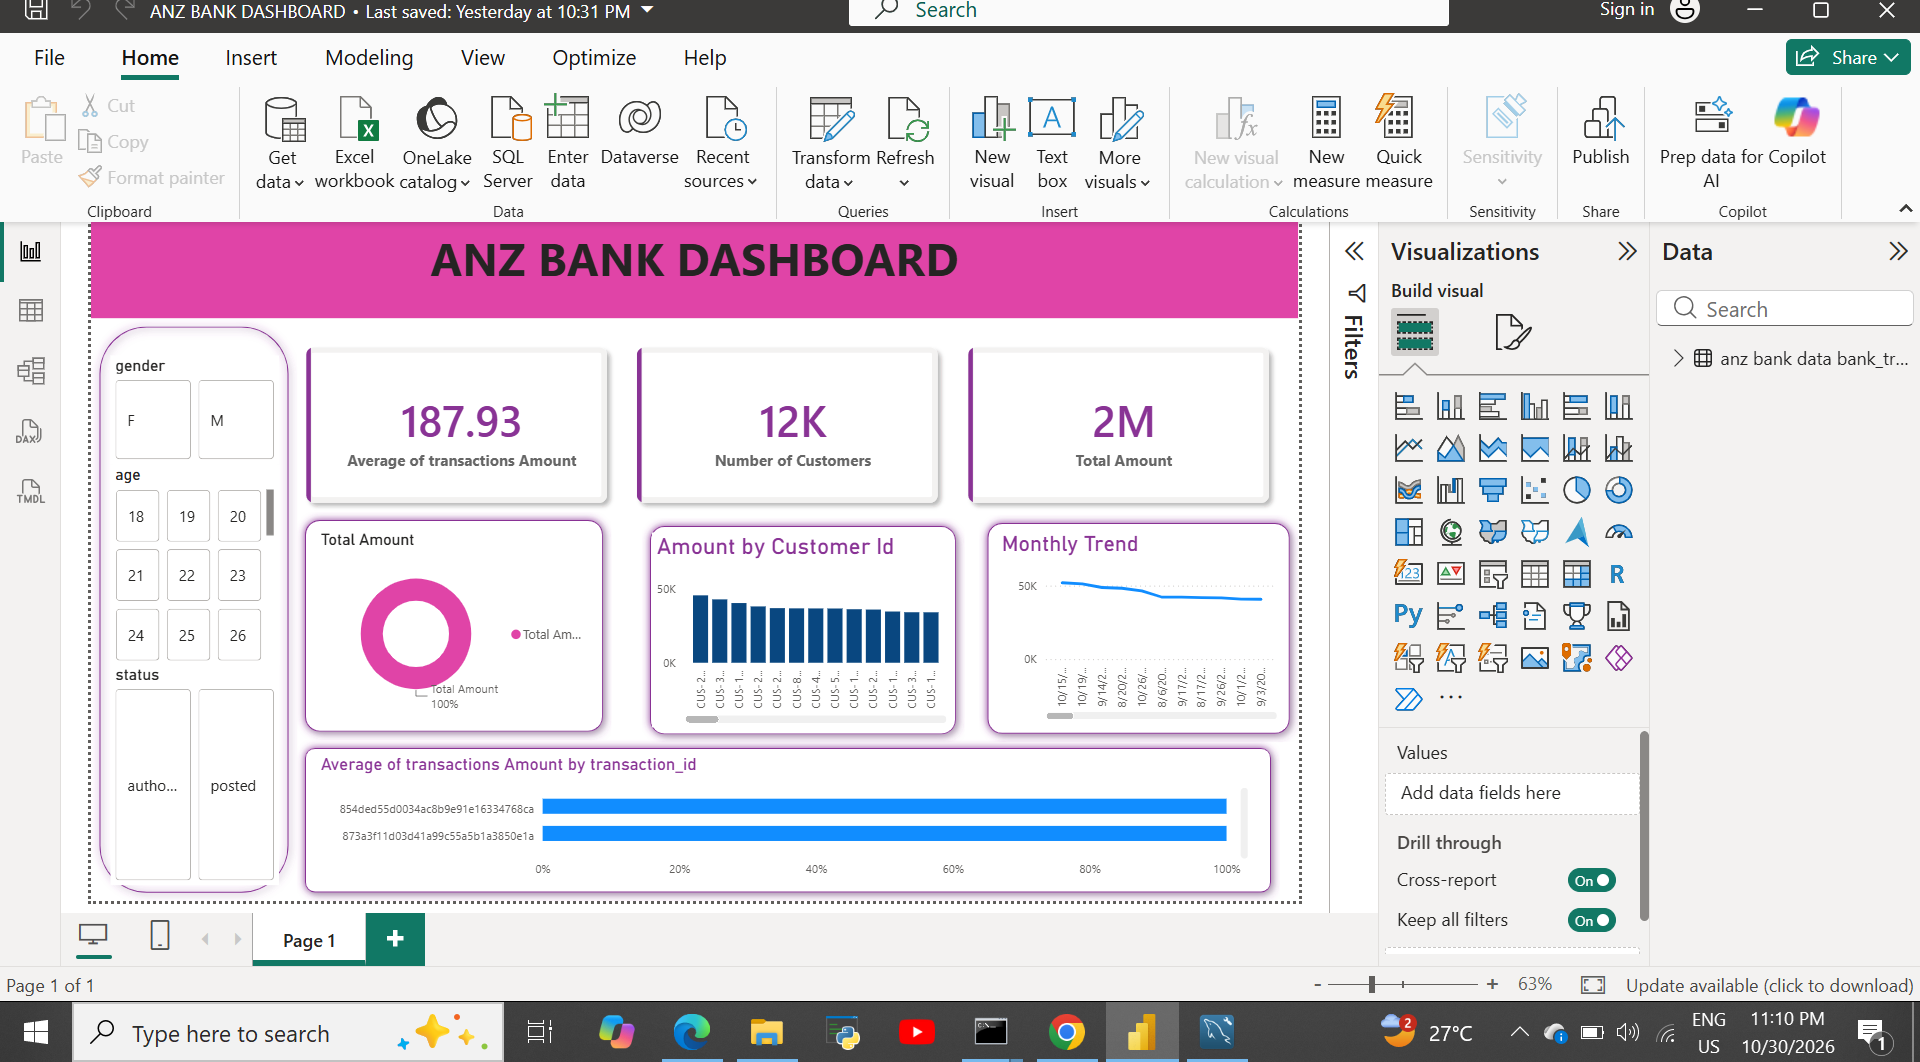

This screenshot's page, from the dashboard's own definition file:
{"tool":"powerbi","page":{"name":"Page 1","canvas":[1280,720],"ordinal":0},"visuals":[{"type":"cardVisual","fields":{"Data":["anz bank data bank_transactions.Average of transactions Amount","anz bank data bank_transactions.Number of Customers","anz bank data bank_transactions.Total Amount"]},"box":[198.3,103.4,1081.4,223.7],"z":0},{"type":"shape","box":[0,0,1280,101.7],"z":1000},{"type":"textbox","box":[0,0,1280,101.7],"z":2000},{"type":"shape","box":[218.6,306.8,333.9,242.4],"z":3000},{"type":"donutChart","fields":{"Y":["anz bank data bank_transactions.Total Amount"]},"box":[239,325.4,298.3,200],"z":4000},{"type":"shape","box":[583.1,313.6,342.4,239],"z":5000},{"type":"shape","box":[941.5,310.8,338.5,241.5],"z":6000},{"type":"clusteredColumnChart","title":"Amount by Customer Id","fields":{"Y":["Sum(anz bank data bank_transactions.amount)"],"Category":["anz bank data bank_transactions.customer_id"]},"box":[594.9,328.8,316.9,206.8],"z":7000},{"type":"lineChart","title":"Monthly Trend","fields":{"Category":["anz bank data bank_transactions.date"],"Y":["Sum(anz bank data bank_transactions.amount)"]},"box":[960,327.7,301.5,204.6],"z":8000},{"type":"shape","box":[0,101.5,218.5,618.5],"z":9000},{"type":"advancedSlicerVisual","fields":{"Values":["anz bank data bank_transactions.gender"]},"box":[20,141.5,178.5,115.4],"z":10000},{"type":"advancedSlicerVisual","fields":{"Values":["anz bank data bank_transactions.age"]},"box":[20,256.9,178.5,212.3],"z":11000},{"type":"advancedSlicerVisual","fields":{"Values":["anz bank data bank_transactions.status"]},"box":[20,469.2,178.5,233.8],"z":12000},{"type":"shape","box":[218.6,549.2,1042.4,171.2],"z":13000},{"type":"hundredPercentStackedBarChart","fields":{"Category":["anz bank data bank_transactions.transaction_id"],"Y":["anz bank data bank_transactions.Average of transactions Amount"]},"box":[239,564.4,993.2,139],"z":14000}]}

Visuals, with their boxes on the page's 1280x720 design canvas (x1, y1, x2, y2). These are canvas units, not pixel positions in the 1920x1062 screenshot, which may show the page scaled, cropped or inside an application window:
cardVisual - anz bank data bank_transactions.Average of transactions Amount x anz bank data bank_transactions.Number of Customers: region(198, 103, 1280, 327)
shape: region(0, 0, 1280, 102)
textbox: region(0, 0, 1280, 102)
shape: region(219, 307, 552, 549)
donutChart - anz bank data bank_transactions.Total Amount: region(239, 325, 537, 525)
shape: region(583, 314, 926, 553)
shape: region(942, 311, 1280, 552)
"Amount by Customer Id" clusteredColumnChart: region(595, 329, 912, 536)
"Monthly Trend" lineChart: region(960, 328, 1262, 532)
shape: region(0, 102, 218, 720)
advancedSlicerVisual - anz bank data bank_transactions.gender: region(20, 142, 198, 257)
advancedSlicerVisual - anz bank data bank_transactions.age: region(20, 257, 198, 469)
advancedSlicerVisual - anz bank data bank_transactions.status: region(20, 469, 198, 703)
shape: region(219, 549, 1261, 720)
hundredPercentStackedBarChart - anz bank data bank_transactions.transaction_id x anz bank data bank_transactions.Average of transactions Amount: region(239, 564, 1232, 703)
